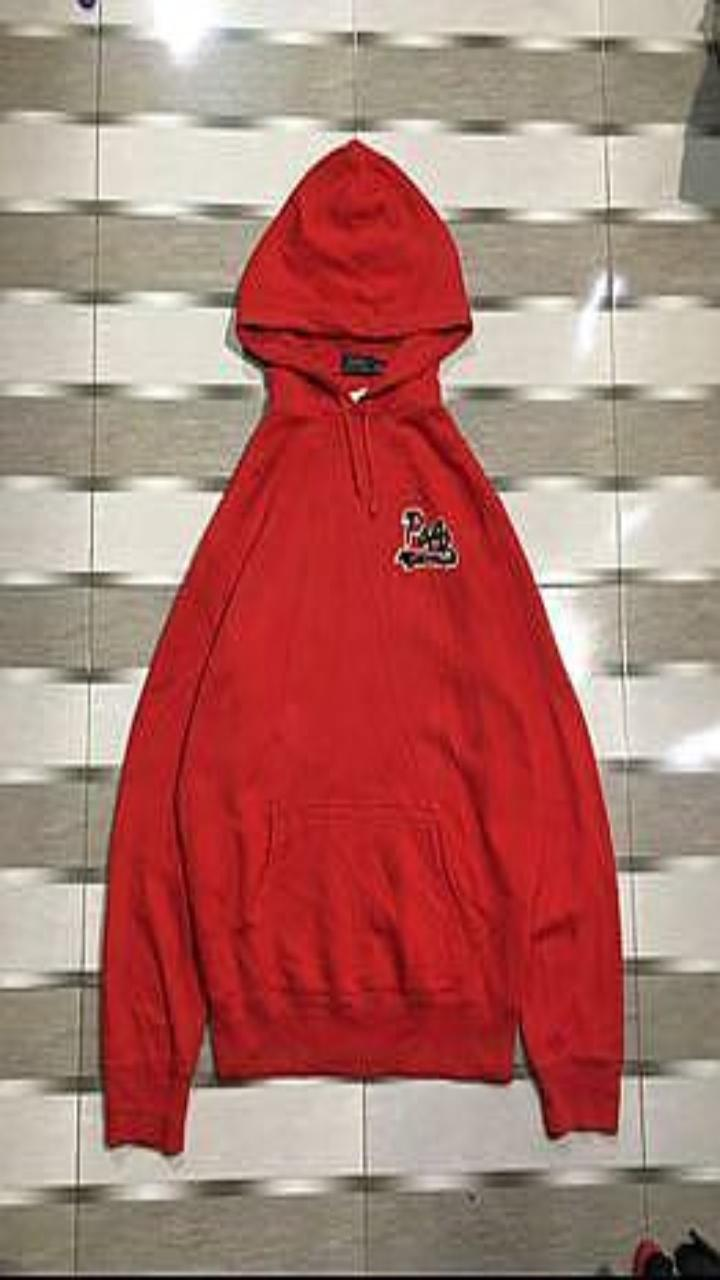Hoodie: (101, 138, 622, 1153)
